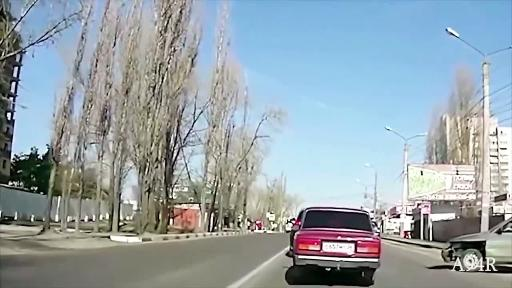Accident-fire-smoke: (241, 166, 421, 284)
CAR: (440, 172, 512, 288)
